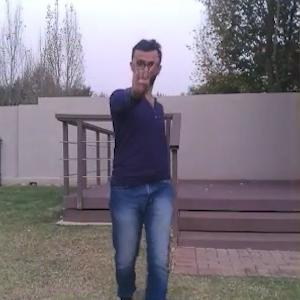takeoff-hand: (121, 49, 159, 97)
